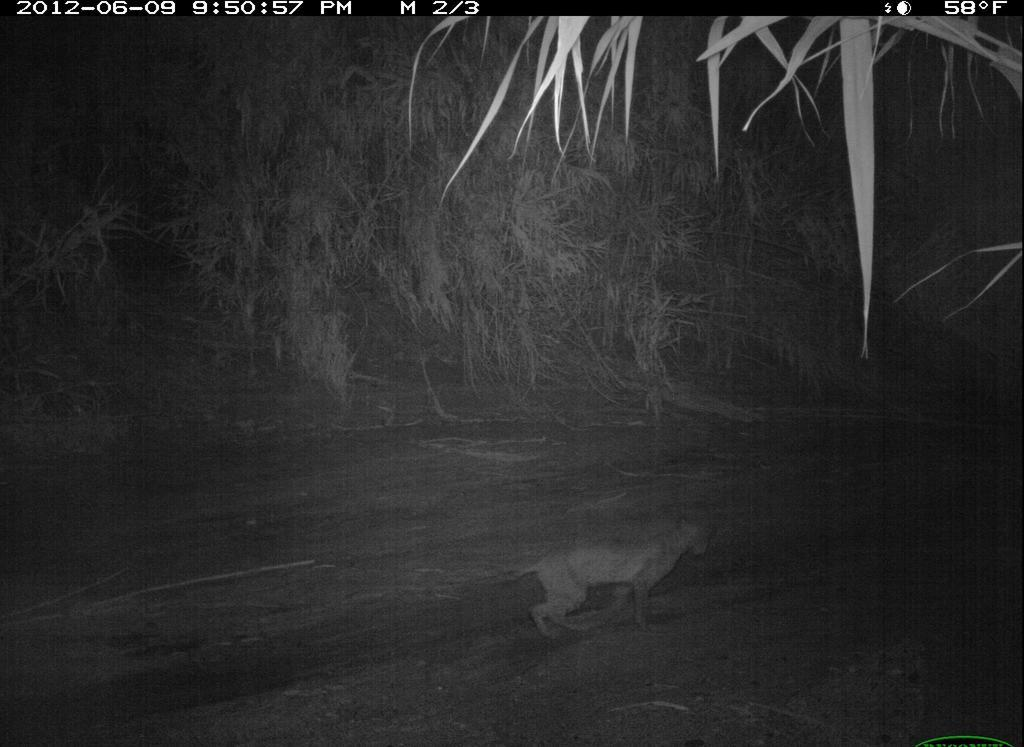bobcat: (478, 510, 721, 649)
